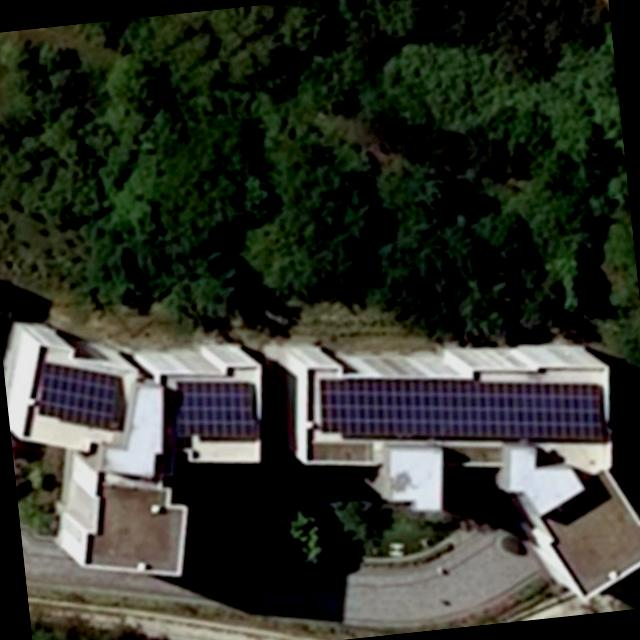solar: (315, 348, 611, 472), (165, 370, 261, 447), (32, 357, 121, 435)
